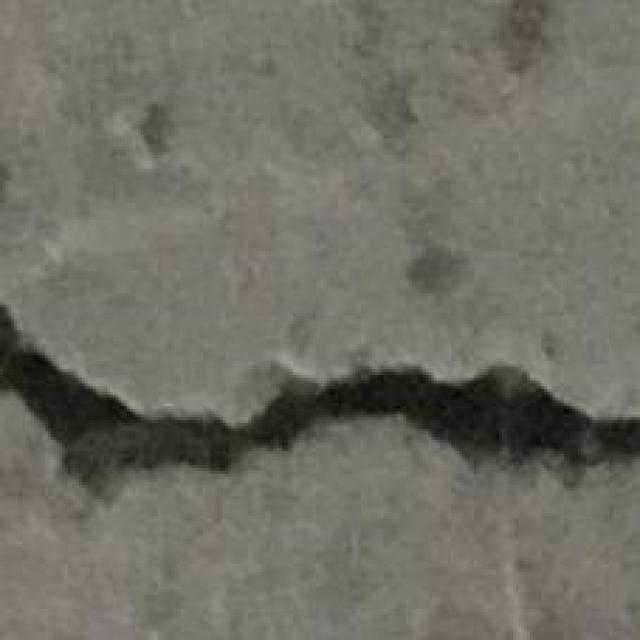Transverse: (273, 358, 640, 486)
Turtle-shell patterned: (5, 304, 268, 510)
